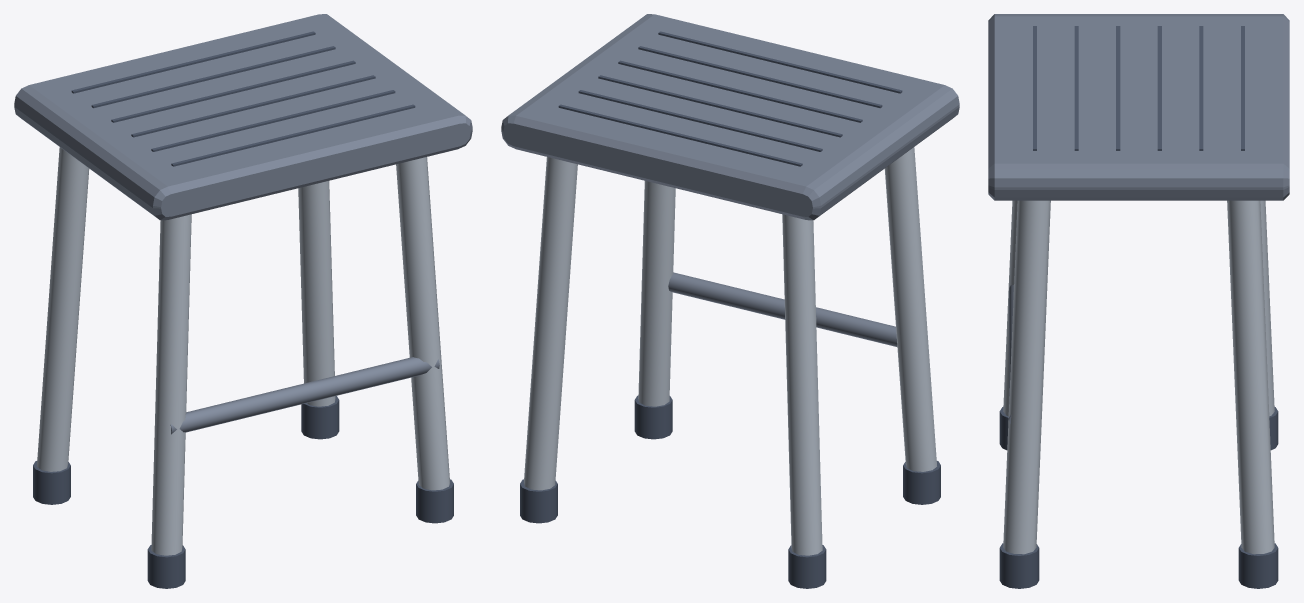
The model's file is shower-stool-lite.glb.
The picture shows the model from 3 angles, left to right: view 1: azimuth 30°, elevation 25°; view 2: azimuth 150°, elevation 25°; view 3: azimuth 270°, elevation 25°; orthographic projection. The views are drawn at different scales.
Parts seen in each view (by area): view 1: body, light, dark; view 2: body, light, dark; view 3: body, light, dark.
Boxes of the visible parts, bbox=[...] form: body: bbox=[14, 14, 472, 434]; light: bbox=[37, 147, 449, 555]; dark: bbox=[33, 31, 453, 588]; body: bbox=[501, 14, 959, 346]; light: bbox=[524, 147, 936, 555]; dark: bbox=[520, 31, 940, 588]; body: bbox=[988, 14, 1289, 423]; light: bbox=[1003, 200, 1274, 554]; dark: bbox=[999, 26, 1278, 588].
Bounding box in the file's own units: 0.37 × 0.451 × 0.29.
